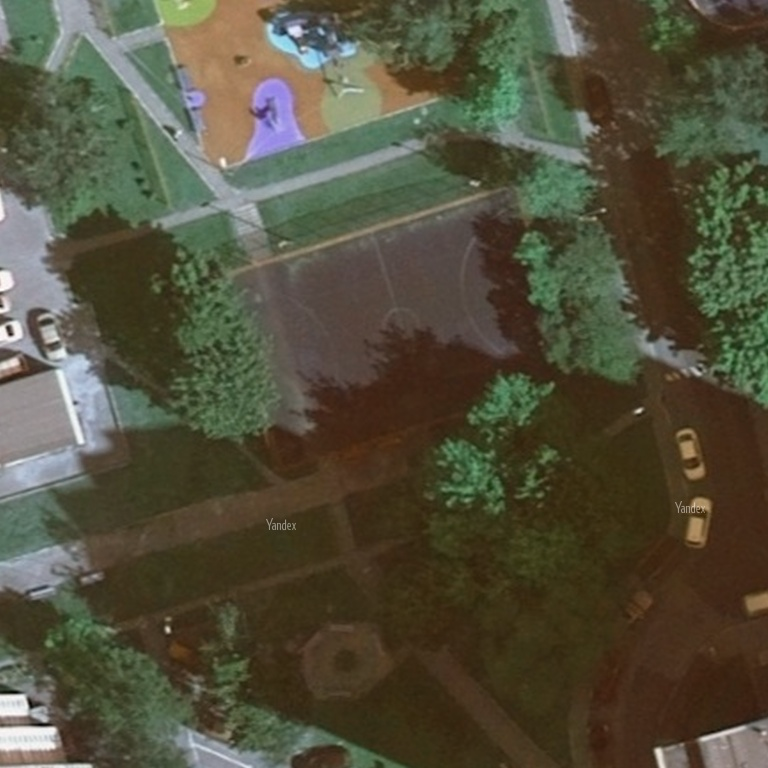basket_court: (196, 172, 596, 483)
